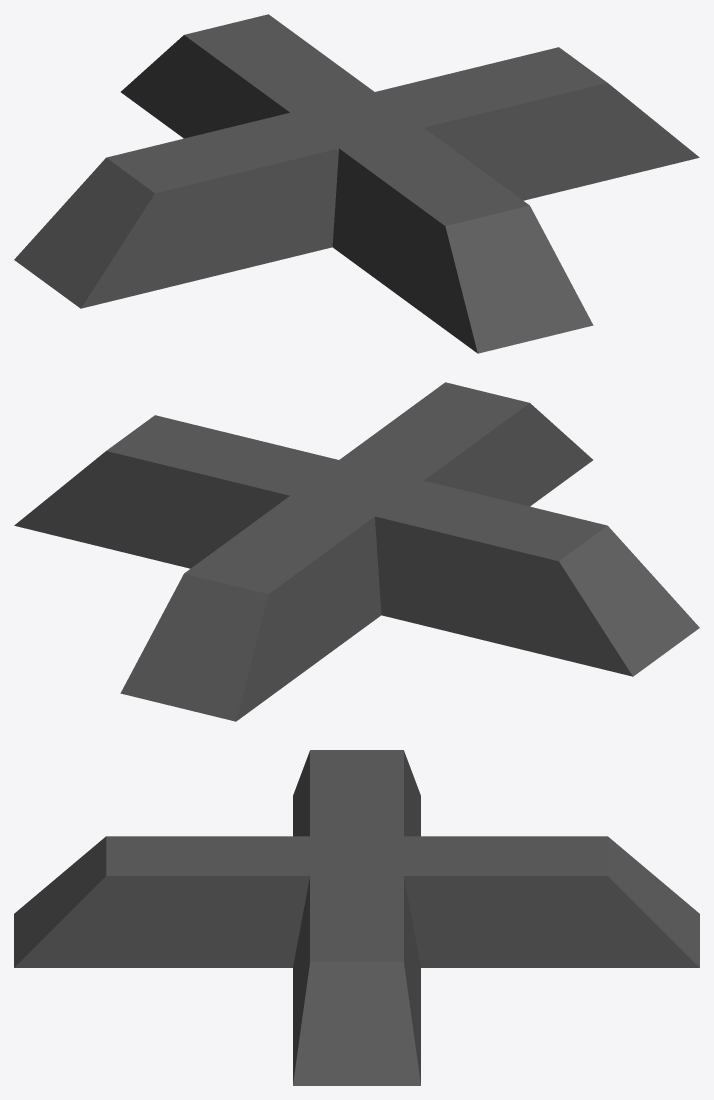
Rendered from Itr_Table_Feet_04.FBX.
The picture shows the model from 3 angles, top to bottom: view 1: azimuth 30°, elevation 25°; view 2: azimuth 150°, elevation 25°; view 3: azimuth 270°, elevation 25°; orthographic projection. The views are drawn at different scales.
Parts seen in each view (by area): view 1: Itr_Table_Feet_04; view 2: Itr_Table_Feet_04; view 3: Itr_Table_Feet_04.
Boxes of the visible parts, box(x1,y1,x2,y2) form: Itr_Table_Feet_04: box(14, 14, 699, 353); Itr_Table_Feet_04: box(14, 382, 699, 721); Itr_Table_Feet_04: box(14, 750, 699, 1085).
Bounding box in the file's own units: 25.7 × 3.51 × 25.7.
